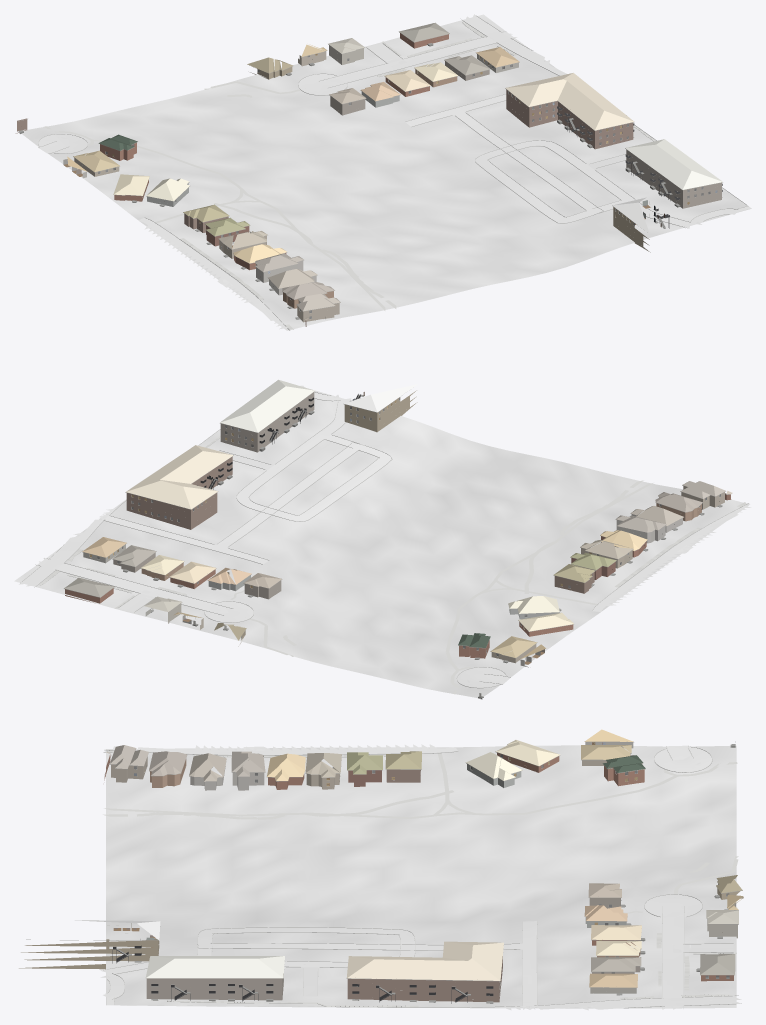
The picture shows the model from 3 angles, top to bottom: view 1: azimuth 30°, elevation 25°; view 2: azimuth 150°, elevation 25°; view 3: azimuth 270°, elevation 25°; orthographic projection. The views are drawn at different scales.
Visible parts, largest first — view 1: ground, roof, concrete, wall, walk, curb, detail, wall_stucco, asphalt; view 2: ground, roof, concrete, wall, walk, curb, detail, asphalt, wall_stucco; view 3: ground, roof, concrete, wall, walk, curb, detail, asphalt, wall_stucco, wall_stone, rail.
Part boxes in pixels (left/top/right/bottom): ground: left=21, top=14, right=751, bottom=330; roof: left=67, top=22, right=722, bottom=320; concrete: left=38, top=32, right=750, bottom=329; wall: left=15, top=33, right=721, bottom=326; walk: left=44, top=21, right=655, bottom=329; curb: left=38, top=15, right=748, bottom=330; detail: left=18, top=32, right=722, bottom=320; wall_stucco: left=147, top=45, right=518, bottom=206; asphalt: left=465, top=14, right=566, bottom=75; ground: left=14, top=390, right=749, bottom=698; roof: left=64, top=379, right=732, bottom=659; concrete: left=39, top=385, right=751, bottom=687; wall: left=65, top=390, right=731, bottom=663; walk: left=38, top=436, right=745, bottom=694; curb: left=20, top=391, right=748, bottom=688; detail: left=64, top=391, right=730, bottom=699; asphalt: left=19, top=508, right=115, bottom=586; wall_stucco: left=83, top=544, right=558, bottom=629; ground: left=106, top=745, right=736, bottom=1008; roof: left=75, top=729, right=742, bottom=987; concrete: left=100, top=744, right=733, bottom=1009; wall: left=19, top=752, right=743, bottom=1002; walk: left=103, top=750, right=738, bottom=1007; curb: left=103, top=745, right=741, bottom=1008; detail: left=26, top=741, right=742, bottom=1003; asphalt: left=503, top=996, right=741, bottom=1010; wall_stucco: left=467, top=764, right=737, bottom=993; wall_stone: left=190, top=741, right=633, bottom=790; rail: left=113, top=945, right=493, bottom=1001.
Bounding box in the file's own units: 257 × 19.77 × 293.
